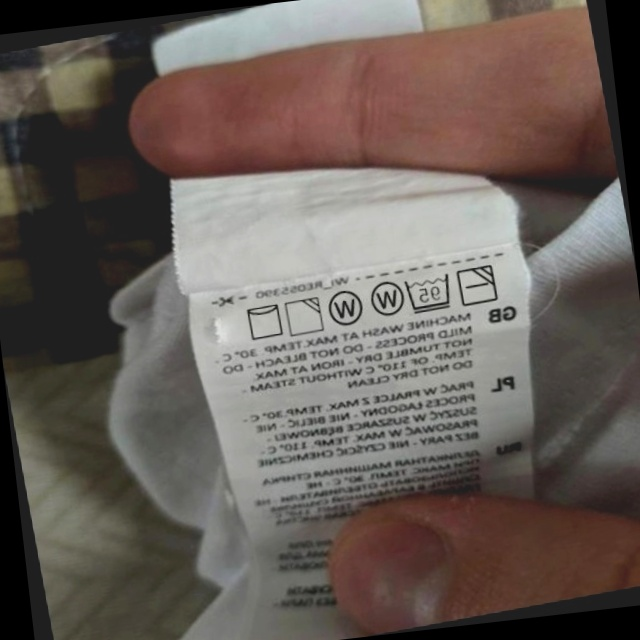95C: (401, 270, 456, 316)
dry_flat_in_shade: (454, 260, 501, 309)
line_dry: (241, 299, 287, 344)
shade_dry: (282, 293, 327, 339)
wet_clean: (364, 275, 407, 321), (324, 286, 367, 331)
